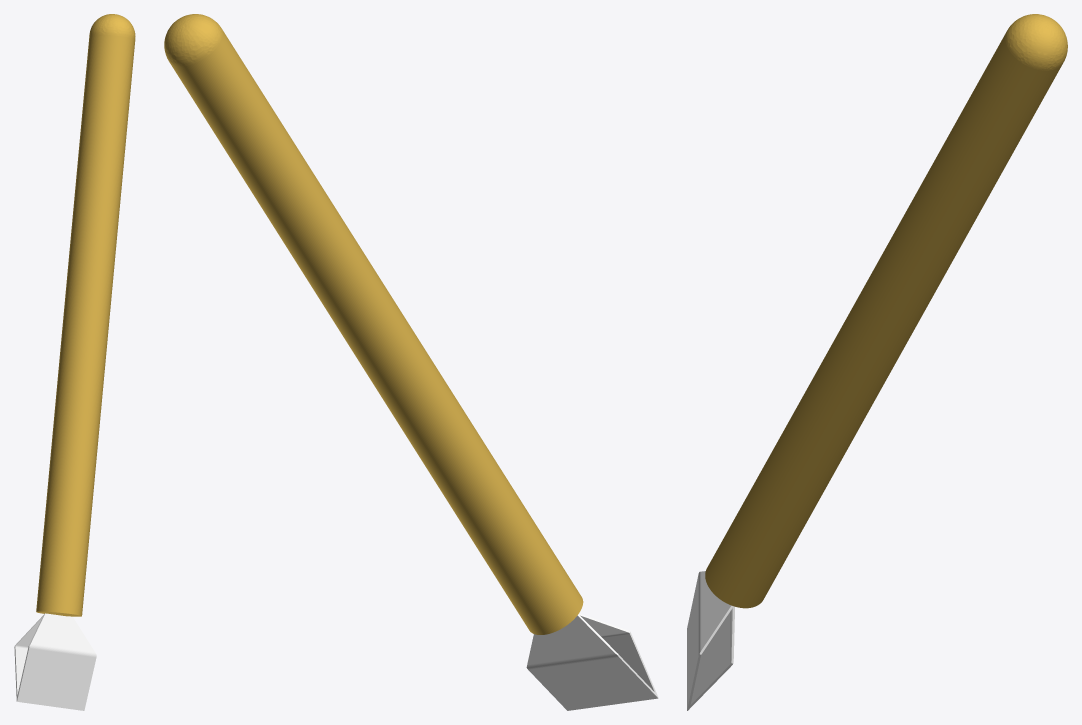
Rendered from pen_6a.glb.
3 views of the same model, side by side, from view 1: azimuth 30°, elevation 25°; view 2: azimuth 150°, elevation 25°; view 3: azimuth 270°, elevation 25° (orthographic). The views are drawn at different scales.
Visible parts, largest first — view 1: Node3, Node1; view 2: Node3, Node1; view 3: Node3, Node1.
Boxes of the visible parts, x1,y1,x2,y2 form: Node3: (36,14,135,616); Node1: (14,613,96,710); Node3: (164,14,583,634); Node1: (526,613,658,710); Node3: (705,14,1067,608); Node1: (687,571,734,710).
Bounding box in the file's own units: 67.72 × 153 × 66.35.
